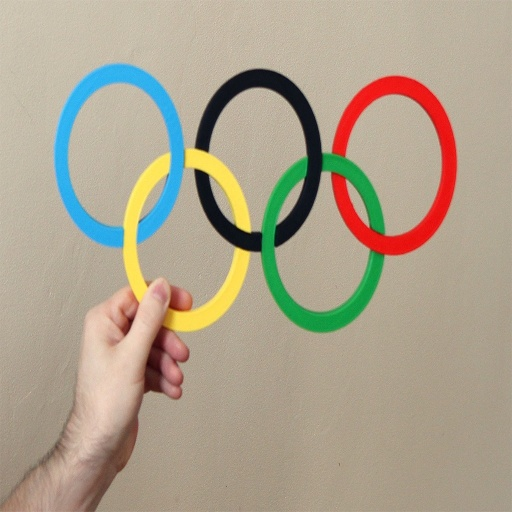hand: (32, 272, 193, 492)
